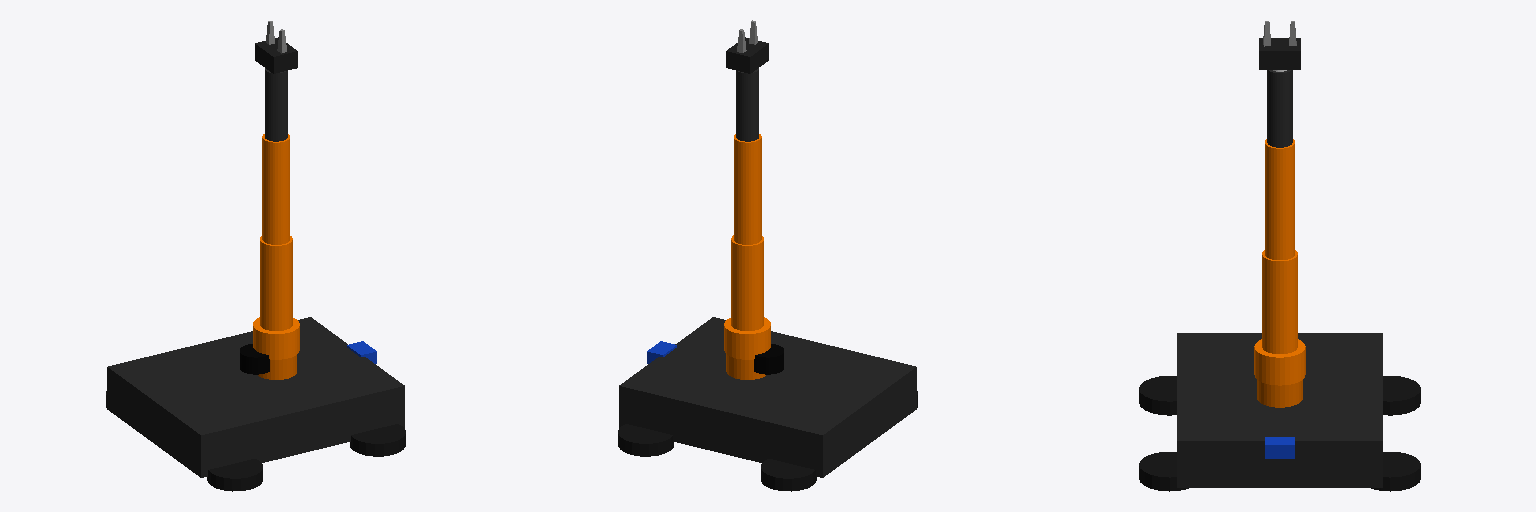
The robot description file, URDF, robot "reachbot":
<?xml version="1.0"?>
<!--
  urdf/robot_full.urdf
  Combined ReachBot: omni-base + 3-DOF KUKA arm + parallel gripper.

  This is the authoritative single-file URDF for Modules 3-6.
  robot_loader.py loads base.urdf + kuka_arm.urdf separately and pins them
  with a constraint — this file is the human-readable merged version and can
  also be loaded directly via:
      p.loadURDF("urdf/robot_full.urdf", useFixedBase=False)

  Coordinate convention:
    base_link origin at chassis centre, z=0 at wheel contact plane.
    arm_base_link attached at [0.05, 0, 0.13] on base_link.

  Sensors (fixed links, no inertia):
    lidar_link    — top of chassis, 360° planar LiDAR
    camera_link   — front of chassis, RGB-D camera
    force_sensor  — end-effector, 6-axis F/T (simulated via contact query)

  Visual geometry: mesh where available, primitive fallback.
  Collision geometry: always primitives (faster simulation).
-->
<robot name="reachbot">

  <!-- ════════════════════════════════════════════════════════════════
       BASE CHASSIS
       ════════════════════════════════════════════════════════════════ -->

  <link name="base_link">
    <inertial>
      <mass value="8.0"/>
      <origin xyz="0 0 0" rpy="0 0 0"/>
      <inertia ixx="0.15" ixy="0" ixz="0"
               iyy="0.15" iyz="0"
               izz="0.25"/>
    </inertial>
    <visual>
      <origin xyz="0 0 0" rpy="0 0 0"/>
      <geometry>
        <mesh filename="../assets/meshes/base_chassis.obj" scale="1 1 1"/>
      </geometry>
      <material name="chassis_dark">
        <color rgba="0.18 0.18 0.18 1.0"/>
      </material>
    </visual>
    <collision>
      <origin xyz="0 0 0" rpy="0 0 0"/>
      <geometry><box size="0.50 0.40 0.10"/></geometry>
    </collision>
  </link>

  <!-- ── Sensors (fixed to base) ───────────────────────────────── -->

  <link name="lidar_link">
    <inertial>
      <mass value="0.1"/>
      <origin xyz="0 0 0" rpy="0 0 0"/>
      <inertia ixx="0.0001" ixy="0" ixz="0" iyy="0.0001" iyz="0" izz="0.0001"/>
    </inertial>
    <visual>
      <origin xyz="0 0 0" rpy="0 0 0"/>
      <geometry><cylinder radius="0.035" length="0.04"/></geometry>
      <material name="sensor_black"><color rgba="0.05 0.05 0.05 1.0"/></material>
    </visual>
  </link>
  <joint name="lidar_joint" type="fixed">
    <parent link="base_link"/>
    <child  link="lidar_link"/>
    <origin xyz="0 0 0.09" rpy="0 0 0"/>
  </joint>

  <link name="camera_link">
    <inertial>
      <mass value="0.05"/>
      <origin xyz="0 0 0" rpy="0 0 0"/>
      <inertia ixx="0.00001" ixy="0" ixz="0" iyy="0.00001" iyz="0" izz="0.00001"/>
    </inertial>
    <visual>
      <origin xyz="0 0 0" rpy="0 0 0"/>
      <geometry><box size="0.04 0.06 0.03"/></geometry>
      <material name="camera_blue"><color rgba="0.1 0.3 0.8 1.0"/></material>
    </visual>
  </link>
  <joint name="camera_joint" type="fixed">
    <parent link="base_link"/>
    <child  link="camera_link"/>
    <origin xyz="0.26 0 0.04" rpy="0 0 0"/>
  </joint>

  <!-- ── Omni wheels (×4) ──────────────────────────────────────── -->

  <!-- Front-Left -->
  <link name="wheel_fl">
    <inertial>
      <mass value="0.5"/>
      <origin xyz="0 0 0" rpy="0 0 0"/>
      <inertia ixx="0.000477" ixy="0" ixz="0" iyy="0.000900" iyz="0" izz="0.000477"/>
    </inertial>
    <visual>
      <origin xyz="0 0 0" rpy="1.5708 0 0"/>
      <geometry>
        <mesh filename="../assets/meshes/omni_wheel.obj" scale="1 1 1"/>
      </geometry>
      <material name="wheel_rubber"><color rgba="0.12 0.12 0.12 1.0"/></material>
    </visual>
    <collision>
      <origin xyz="0 0 0" rpy="1.5708 0 0"/>
      <geometry><cylinder radius="0.06" length="0.03"/></geometry>
    </collision>
  </link>
  <joint name="joint_wheel_fl" type="continuous">
    <parent link="base_link"/>
    <child  link="wheel_fl"/>
    <origin xyz=" 0.175  0.215 -0.05" rpy="0 0 0"/>
    <axis xyz="0 1 0"/>
    <dynamics damping="0.01" friction="0.0"/>
  </joint>

  <!-- Front-Right -->
  <link name="wheel_fr">
    <inertial>
      <mass value="0.5"/>
      <origin xyz="0 0 0" rpy="0 0 0"/>
      <inertia ixx="0.000477" ixy="0" ixz="0" iyy="0.000900" iyz="0" izz="0.000477"/>
    </inertial>
    <visual>
      <origin xyz="0 0 0" rpy="1.5708 0 0"/>
      <geometry>
        <mesh filename="../assets/meshes/omni_wheel.obj" scale="1 1 1"/>
      </geometry>
      <material name="wheel_rubber"><color rgba="0.12 0.12 0.12 1.0"/></material>
    </visual>
    <collision>
      <origin xyz="0 0 0" rpy="1.5708 0 0"/>
      <geometry><cylinder radius="0.06" length="0.03"/></geometry>
    </collision>
  </link>
  <joint name="joint_wheel_fr" type="continuous">
    <parent link="base_link"/>
    <child  link="wheel_fr"/>
    <origin xyz=" 0.175 -0.215 -0.05" rpy="0 0 0"/>
    <axis xyz="0 1 0"/>
    <dynamics damping="0.01" friction="0.0"/>
  </joint>

  <!-- Rear-Left -->
  <link name="wheel_rl">
    <inertial>
      <mass value="0.5"/>
      <origin xyz="0 0 0" rpy="0 0 0"/>
      <inertia ixx="0.000477" ixy="0" ixz="0" iyy="0.000900" iyz="0" izz="0.000477"/>
    </inertial>
    <visual>
      <origin xyz="0 0 0" rpy="1.5708 0 0"/>
      <geometry>
        <mesh filename="../assets/meshes/omni_wheel.obj" scale="1 1 1"/>
      </geometry>
      <material name="wheel_rubber"><color rgba="0.12 0.12 0.12 1.0"/></material>
    </visual>
    <collision>
      <origin xyz="0 0 0" rpy="1.5708 0 0"/>
      <geometry><cylinder radius="0.06" length="0.03"/></geometry>
    </collision>
  </link>
  <joint name="joint_wheel_rl" type="continuous">
    <parent link="base_link"/>
    <child  link="wheel_rl"/>
    <origin xyz="-0.175  0.215 -0.05" rpy="0 0 0"/>
    <axis xyz="0 1 0"/>
    <dynamics damping="0.01" friction="0.0"/>
  </joint>

  <!-- Rear-Right -->
  <link name="wheel_rr">
    <inertial>
      <mass value="0.5"/>
      <origin xyz="0 0 0" rpy="0 0 0"/>
      <inertia ixx="0.000477" ixy="0" ixz="0" iyy="0.000900" iyz="0" izz="0.000477"/>
    </inertial>
    <visual>
      <origin xyz="0 0 0" rpy="1.5708 0 0"/>
      <geometry>
        <mesh filename="../assets/meshes/omni_wheel.obj" scale="1 1 1"/>
      </geometry>
      <material name="wheel_rubber"><color rgba="0.12 0.12 0.12 1.0"/></material>
    </visual>
    <collision>
      <origin xyz="0 0 0" rpy="1.5708 0 0"/>
      <geometry><cylinder radius="0.06" length="0.03"/></geometry>
    </collision>
  </link>
  <joint name="joint_wheel_rr" type="continuous">
    <parent link="base_link"/>
    <child  link="wheel_rr"/>
    <origin xyz="-0.175 -0.215 -0.05" rpy="0 0 0"/>
    <axis xyz="0 1 0"/>
    <dynamics damping="0.01" friction="0.0"/>
  </joint>

  <!-- ════════════════════════════════════════════════════════════════
       ARM MOUNT  (transition between base and arm)
       ════════════════════════════════════════════════════════════════ -->

  <link name="arm_mount">
    <inertial>
      <mass value="0.3"/>
      <origin xyz="0 0 0" rpy="0 0 0"/>
      <inertia ixx="0.001" ixy="0" ixz="0" iyy="0.001" iyz="0" izz="0.001"/>
    </inertial>
    <visual>
      <origin xyz="0 0 0" rpy="0 0 0"/>
      <geometry><cylinder radius="0.045" length="0.06"/></geometry>
      <material name="mount_orange"><color rgba="0.9 0.45 0.0 1.0"/></material>
    </visual>
    <collision>
      <origin xyz="0 0 0" rpy="0 0 0"/>
      <geometry><cylinder radius="0.045" length="0.06"/></geometry>
    </collision>
  </link>
  <joint name="arm_mount_joint" type="fixed">
    <parent link="base_link"/>
    <child  link="arm_mount"/>
    <origin xyz="0.05 0 0.08" rpy="0 0 0"/>
  </joint>

  <!-- ════════════════════════════════════════════════════════════════
       3-DOF KUKA ARM
       ════════════════════════════════════════════════════════════════ -->

  <!-- Arm base (attached to arm_mount) -->
  <link name="arm_base_link">
    <inertial>
      <mass value="0.5"/>
      <origin xyz="0 0 0" rpy="0 0 0"/>
      <inertia ixx="0.002" ixy="0" ixz="0" iyy="0.002" iyz="0" izz="0.002"/>
    </inertial>
    <visual>
      <origin xyz="0 0 0" rpy="0 0 0"/>
      <geometry><cylinder radius="0.05" length="0.06"/></geometry>
      <material name="kuka_orange"><color rgba="1.0 0.5 0.0 1.0"/></material>
    </visual>
    <collision>
      <origin xyz="0 0 0" rpy="0 0 0"/>
      <geometry><cylinder radius="0.05" length="0.06"/></geometry>
    </collision>
  </link>
  <joint name="arm_base_joint" type="fixed">
    <parent link="arm_mount"/>
    <child  link="arm_base_link"/>
    <origin xyz="0 0 0.05" rpy="0 0 0"/>
  </joint>

  <!-- Link 1 — shoulder yaw -->
  <link name="link1">
    <inertial>
      <mass value="1.2"/>
      <origin xyz="0 0 0.1" rpy="0 0 0"/>
      <inertia ixx="0.01" ixy="0" ixz="0" iyy="0.01" iyz="0" izz="0.003"/>
    </inertial>
    <visual>
      <origin xyz="0 0 0.1" rpy="0 0 0"/>
      <geometry><cylinder radius="0.035" length="0.20"/></geometry>
      <material name="kuka_orange"><color rgba="1.0 0.5 0.0 1.0"/></material>
    </visual>
    <collision>
      <origin xyz="0 0 0.1" rpy="0 0 0"/>
      <geometry><cylinder radius="0.035" length="0.20"/></geometry>
    </collision>
  </link>
  <joint name="joint1" type="revolute">
    <parent link="arm_base_link"/>
    <child  link="link1"/>
    <origin xyz="0 0 0.03" rpy="0 0 0"/>
    <axis xyz="0 0 1"/>
    <limit lower="-3.14159" upper="3.14159" effort="80" velocity="2.0"/>
    <dynamics damping="0.5" friction="0.1"/>
  </joint>

  <!-- Link 2 — elbow pitch -->
  <link name="link2">
    <inertial>
      <mass value="0.9"/>
      <origin xyz="0 0 0.12" rpy="0 0 0"/>
      <inertia ixx="0.008" ixy="0" ixz="0" iyy="0.008" iyz="0" izz="0.002"/>
    </inertial>
    <visual>
      <origin xyz="0 0 0.12" rpy="0 0 0"/>
      <geometry><cylinder radius="0.030" length="0.24"/></geometry>
      <material name="kuka_orange"><color rgba="1.0 0.5 0.0 1.0"/></material>
    </visual>
    <collision>
      <origin xyz="0 0 0.12" rpy="0 0 0"/>
      <geometry><cylinder radius="0.030" length="0.24"/></geometry>
    </collision>
  </link>
  <joint name="joint2" type="revolute">
    <parent link="link1"/>
    <child  link="link2"/>
    <origin xyz="0 0 0.20" rpy="0 0 0"/>
    <axis xyz="0 1 0"/>
    <limit lower="-1.5708" upper="1.5708" effort="60" velocity="2.0"/>
    <dynamics damping="0.5" friction="0.1"/>
  </joint>

  <!-- Link 3 — wrist pitch -->
  <link name="link3">
    <inertial>
      <mass value="0.5"/>
      <origin xyz="0 0 0.08" rpy="0 0 0"/>
      <inertia ixx="0.003" ixy="0" ixz="0" iyy="0.003" iyz="0" izz="0.001"/>
    </inertial>
    <visual>
      <origin xyz="0 0 0.08" rpy="0 0 0"/>
      <geometry><cylinder radius="0.025" length="0.16"/></geometry>
      <material name="kuka_dark"><color rgba="0.20 0.20 0.20 1.0"/></material>
    </visual>
    <collision>
      <origin xyz="0 0 0.08" rpy="0 0 0"/>
      <geometry><cylinder radius="0.025" length="0.16"/></geometry>
    </collision>
  </link>
  <joint name="joint3" type="revolute">
    <parent link="link2"/>
    <child  link="link3"/>
    <origin xyz="0 0 0.24" rpy="0 0 0"/>
    <axis xyz="0 1 0"/>
    <limit lower="-1.5708" upper="1.5708" effort="40" velocity="2.5"/>
    <dynamics damping="0.3" friction="0.05"/>
  </joint>

  <!-- End-effector -->
  <link name="end_effector_link">
    <inertial>
      <mass value="0.1"/>
      <origin xyz="0 0 0" rpy="0 0 0"/>
      <inertia ixx="0.0001" ixy="0" ixz="0" iyy="0.0001" iyz="0" izz="0.0001"/>
    </inertial>
    <visual>
      <origin xyz="0 0 0" rpy="0 0 0"/>
      <geometry><sphere radius="0.018"/></geometry>
      <material name="silver"><color rgba="0.8 0.8 0.8 1.0"/></material>
    </visual>
  </link>
  <joint name="ee_joint" type="fixed">
    <parent link="link3"/>
    <child  link="end_effector_link"/>
    <origin xyz="0 0 0.16" rpy="0 0 0"/>
  </joint>

  <!-- ════════════════════════════════════════════════════════════════
       GRIPPER
       ════════════════════════════════════════════════════════════════ -->

  <!-- Gripper palm -->
  <link name="gripper_base">
    <inertial>
      <mass value="0.15"/>
      <origin xyz="0 0 0.02" rpy="0 0 0"/>
      <inertia ixx="0.0003" ixy="0" ixz="0" iyy="0.0003" iyz="0" izz="0.0003"/>
    </inertial>
    <visual>
      <origin xyz="0 0 0.02" rpy="0 0 0"/>
      <geometry><box size="0.06 0.08 0.04"/></geometry>
      <material name="gripper_dark"><color rgba="0.15 0.15 0.15 1.0"/></material>
    </visual>
    <collision>
      <origin xyz="0 0 0.02" rpy="0 0 0"/>
      <geometry><box size="0.06 0.08 0.04"/></geometry>
    </collision>
  </link>
  <joint name="gripper_base_joint" type="fixed">
    <parent link="end_effector_link"/>
    <child  link="gripper_base"/>
    <origin xyz="0 0 0.01" rpy="0 0 0"/>
  </joint>

  <!-- Left finger -->
  <link name="finger_left">
    <inertial>
      <mass value="0.05"/>
      <origin xyz="0 0 0.025" rpy="0 0 0"/>
      <inertia ixx="0.00005" ixy="0" ixz="0" iyy="0.00005" iyz="0" izz="0.00001"/>
    </inertial>
    <visual>
      <origin xyz="0 0 0" rpy="0 0 0"/>
      <geometry>
        <mesh filename="../assets/meshes/gripper_finger.obj" scale="1 1 1"/>
      </geometry>
      <material name="finger_gray"><color rgba="0.55 0.55 0.55 1.0"/></material>
    </visual>
    <collision>
      <origin xyz="0 0 0.025" rpy="0 0 0"/>
      <geometry><box size="0.015 0.015 0.05"/></geometry>
    </collision>
  </link>
  <joint name="finger_left_joint" type="prismatic">
    <parent link="gripper_base"/>
    <child  link="finger_left"/>
    <origin xyz="0  0.025 0.04" rpy="0 0 0"/>
    <axis xyz="0 1 0"/>
    <limit lower="0.0" upper="0.04" effort="20" velocity="0.1"/>
    <dynamics damping="0.1" friction="0.01"/>
  </joint>

  <!-- Right finger -->
  <link name="finger_right">
    <inertial>
      <mass value="0.05"/>
      <origin xyz="0 0 0.025" rpy="0 0 0"/>
      <inertia ixx="0.00005" ixy="0" ixz="0" iyy="0.00005" iyz="0" izz="0.00001"/>
    </inertial>
    <visual>
      <origin xyz="0 0 0" rpy="0 0 0.14159"/>
      <geometry>
        <mesh filename="../assets/meshes/gripper_finger.obj" scale="1 1 1"/>
      </geometry>
      <material name="finger_gray"><color rgba="0.55 0.55 0.55 1.0"/></material>
    </visual>
    <collision>
      <origin xyz="0 0 0.025" rpy="0 0 0"/>
      <geometry><box size="0.015 0.015 0.05"/></geometry>
    </collision>
  </link>
  <joint name="finger_right_joint" type="prismatic">
    <parent link="gripper_base"/>
    <child  link="finger_right"/>
    <origin xyz="0 -0.025 0.04" rpy="0 0 0"/>
    <axis xyz="0 -1 0"/>
    <limit lower="0.0" upper="0.04" effort="20" velocity="0.1"/>
    <dynamics damping="0.1" friction="0.01"/>
  </joint>

  <!-- Force sensor frame (virtual, fixed to gripper_base) -->
  <link name="force_sensor_link">
    <inertial>
      <mass value="0.001"/>
      <origin xyz="0 0 0" rpy="0 0 0"/>
      <inertia ixx="0.000001" ixy="0" ixz="0" iyy="0.000001" iyz="0" izz="0.000001"/>
    </inertial>
  </link>
  <joint name="force_sensor_joint" type="fixed">
    <parent link="gripper_base"/>
    <child  link="force_sensor_link"/>
    <origin xyz="0 0 0" rpy="0 0 0"/>
  </joint>

</robot>

--- Facts derived from the render (not from the file) ---
Views: 3 orthographic renders of the robot side by side, from view 1: azimuth 30°, elevation 25°; view 2: azimuth 150°, elevation 25°; view 3: azimuth 270°, elevation 25°.
Robot: reachbot — 17 links, 16 joints (3 revolute, 4 continuous, 2 prismatic, 7 fixed); root link base_link; default pose: all joints at 0.
Visible links, largest first — view 1: base_link, link2, link1, link3, wheel_fr, arm_base_link, wheel_rr, gripper_base, lidar_link, arm_mount; view 2: base_link, link2, link1, link3, wheel_fl, arm_base_link, wheel_rl, gripper_base, lidar_link, arm_mount; view 3: base_link, link1, link2, link3, arm_base_link, wheel_fl, wheel_fr, wheel_rl, wheel_rr, gripper_base, arm_mount, camera_link.
Boxes of the visible links, left/top/right/bottom form: base_link: left=107, top=317, right=404, bottom=477; link2: left=262, top=134, right=289, bottom=244; link1: left=260, top=236, right=292, bottom=330; link3: left=265, top=68, right=287, bottom=141; wheel_fr: left=350, top=424, right=405, bottom=456; arm_base_link: left=253, top=317, right=299, bottom=359; wheel_rr: left=207, top=459, right=262, bottom=491; gripper_base: left=255, top=37, right=297, bottom=73; lidar_link: left=240, top=344, right=269, bottom=374; arm_mount: left=258, top=355, right=296, bottom=379; base_link: left=619, top=317, right=916, bottom=477; link2: left=734, top=134, right=761, bottom=244; link1: left=731, top=235, right=763, bottom=330; link3: left=736, top=68, right=758, bottom=141; wheel_fl: left=618, top=424, right=673, bottom=456; arm_base_link: left=724, top=317, right=770, bottom=359; wheel_rl: left=761, top=459, right=816, bottom=491; gripper_base: left=726, top=37, right=768, bottom=73; lidar_link: left=754, top=344, right=783, bottom=374; arm_mount: left=726, top=354, right=765, bottom=379; base_link: left=1177, top=333, right=1382, bottom=487; link1: left=1262, top=250, right=1297, bottom=353; link2: left=1265, top=139, right=1294, bottom=259; link3: left=1267, top=70, right=1292, bottom=147; arm_base_link: left=1254, top=339, right=1305, bottom=385; wheel_fl: left=1371, top=452, right=1420, bottom=491; wheel_fr: left=1139, top=452, right=1188, bottom=491; wheel_rl: left=1383, top=376, right=1420, bottom=415; wheel_rr: left=1139, top=376, right=1176, bottom=415; gripper_base: left=1259, top=38, right=1300, bottom=69; arm_mount: left=1257, top=380, right=1302, bottom=407; camera_link: left=1265, top=437, right=1294, bottom=458.
Bounding box of the posed robot: 0.53 × 0.55 × 0.925 m (x, y, z).
7 mesh visuals loaded from 3 distinct referenced files (3 OBJ).
